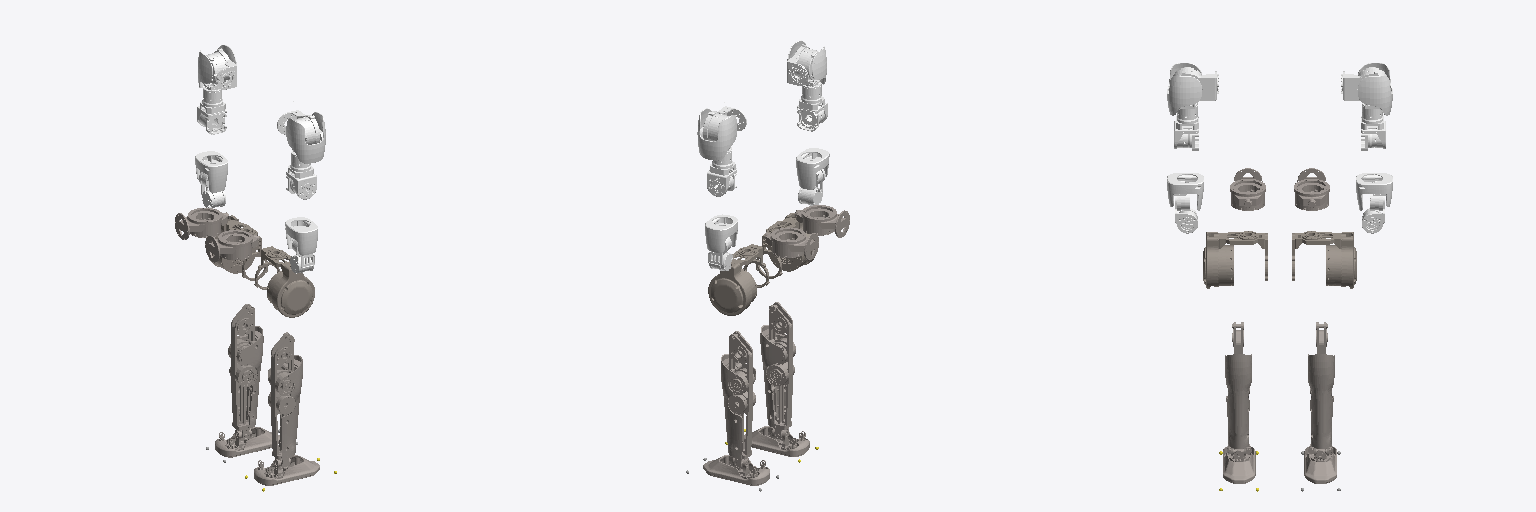
--- Render facts (derived) ---
The picture shows the robot from 3 angles, left to right: view 1: azimuth 30°, elevation 25°; view 2: azimuth 150°, elevation 25°; view 3: azimuth 270°, elevation 25°; orthographic projection.
Robot: biped_s4 — 65 links, 64 joints (26 revolute, 20 continuous, 18 fixed); root link base_link; default pose: all joints at 0.
Links seen in each view (by area): view 1: leg_l4_link, leg_r4_link, leg_r2_link, leg_r1_link, leg_r6_link, leg_l1_link, leg_l6_link, zarm_r2_link, zarm_l5_link, zarm_l3_link, zarm_r5_link, leg_l2_link (+4 smaller); view 2: leg_r4_link, leg_l4_link, leg_l2_link, leg_l1_link, leg_l6_link, leg_r1_link, leg_r6_link, zarm_l2_link, zarm_r5_link, zarm_r3_link, zarm_l5_link, leg_r2_link (+4 smaller); view 3: leg_l4_link, leg_r4_link, leg_l2_link, leg_r2_link, zarm_l2_link, zarm_r2_link, leg_l1_link, leg_r1_link, zarm_l5_link, zarm_r5_link, leg_r6_link, leg_l6_link (+4 smaller).
Boxes of the visible links, box(x1,y1,x2,y2) form: leg_l4_link: box(228, 304, 263, 439); leg_r4_link: box(268, 332, 302, 468); leg_r2_link: box(254, 246, 314, 317); leg_r1_link: box(205, 230, 259, 262); leg_r6_link: box(245, 455, 336, 491); leg_l1_link: box(175, 208, 228, 239); leg_l6_link: box(206, 427, 297, 462); zarm_r2_link: box(286, 112, 325, 163); zarm_l5_link: box(195, 151, 227, 192); zarm_l3_link: box(197, 86, 226, 134); zarm_r5_link: box(285, 217, 317, 256); leg_l2_link: box(209, 215, 267, 280); leg_r4_link: box(760, 302, 795, 438); leg_l4_link: box(721, 331, 755, 468); leg_l2_link: box(708, 244, 769, 315); leg_l1_link: box(764, 227, 818, 260); leg_l6_link: box(686, 455, 778, 491); leg_r1_link: box(795, 205, 849, 237); leg_r6_link: box(725, 426, 818, 462); zarm_l2_link: box(697, 108, 736, 160); zarm_r5_link: box(796, 148, 829, 189); zarm_r3_link: box(797, 82, 827, 131); zarm_l5_link: box(705, 214, 737, 254); leg_r2_link: box(756, 213, 814, 278); leg_l4_link: box(1308, 322, 1334, 455); leg_r4_link: box(1225, 322, 1251, 455); leg_l2_link: box(1292, 231, 1356, 288); leg_r2_link: box(1203, 231, 1267, 288); zarm_l2_link: box(1358, 63, 1392, 115); zarm_r2_link: box(1167, 63, 1201, 115); leg_l1_link: box(1294, 168, 1329, 210); leg_r1_link: box(1230, 168, 1265, 210); zarm_l5_link: box(1356, 173, 1392, 210); zarm_r5_link: box(1167, 173, 1203, 210); leg_r6_link: box(1219, 444, 1258, 491); leg_l6_link: box(1301, 444, 1340, 491).
Bounding box of the posed robot: 0.3744 × 0.6244 × 1.39 m (x, y, z).
20 mesh visuals loaded from 49 distinct referenced files (20 OBJ); not drawn: 29 (reference not matched to a file when rendering).

robot.urdf — biped_s4:
<?xml version="1.0" encoding="utf-8"?>
<!-- This URDF was automatically created by SolidWorks to URDF Exporter! Originally created by
Stephen Brawner ([email redacted]) 
     Commit Version: 1.6.0-4-g7f85cfe  Build Version: 1.6.7995.38578
     For more information, please see http://wiki.ros.org/sw_urdf_exporter -->
<robot name="biped_s4">
  <mujoco>
    <compiler meshdir="../meshes/" balanceinertia="true" discardvisual="false"/>
  </mujoco>
  <!-- <link name="dummy_link">
  </link> -->
  <link name="base_link">
    <inertial>
      <origin 
        xyz="-0.0 0.0 0.12722577"
      	rpy="0 0 0" />
      <mass 
        value="22.46493"  />
      <inertia 
        ixx="0.62588371"
        ixy="-0.00011772"
        ixz="0.01585114"
        iyy="0.56247677"
        iyz="0.00086199"
        izz="0.20014604"  />
    </inertial>
    <visual>
      <origin 
        xyz="0 0 0"
        rpy="0 0 0" />
      <geometry>
        <mesh filename="package://biped_s40_hand/meshes/torso.obj" />
      </geometry>
      <material 
        name="">
        <color 
          rgba="1 1 1 1" />
      </material>
    </visual>
  </link>
  <!-- <joint name="dummy_to_base_link" type="fixed">
    <parent link="dummy_link"/>
    <child link="base_link"/>
    <origin rpy="0 0 0" xyz="0 0 0"/>
  </joint> -->

  <link name="base_camera">
      <visual>
          <origin 
              xyz="0 0 0" 
              rpy="0 0 0" />
          <geometry>
              <sphere radius="0.001"/>
          </geometry>
          <material 
              name="">
              <color 
                  rgba="1 1 1 1" />
          </material>
      </visual>
  </link>
  <joint name="base_camera" type="fixed">
      <origin xyz="0.11416 0.0175 0.28459" rpy="0 0.71522222 0" />
      <parent link="base_link" />
      <child link="base_camera" />
  </joint>

  <!-- ************************************************************ -->
  <!-- *********************** Left leg *************************** -->
  <!-- ************************************************************ -->

  <link name="leg_l1_link">
    <inertial>
      <origin 
        xyz="0.06614234 -0.00000119 -0.00862806"
        rpy="0 0 0" />
      <mass 
        value="1.53800733"
      />
      <inertia 
        ixx="0.00189451"
        ixy="-0.00000100"
        ixz="-0.00010566"
        iyy="0.00282649"
        iyz="-0.00000006"
        izz="0.00366404" />
    </inertial>
    <visual>
      <origin 
        xyz="0 0 0"
        rpy="0 0 0" />
      <geometry>
        <mesh filename="package://biped_s40_hand/meshes/l_leg_roll.obj" />
      </geometry>
      <material 
        name="">
        <color 
          rgba="0.6902 0.65882 0.63922 1" />
      </material>
    </visual>
  </link>
  <joint 
    name="leg_l1_joint"
    type="revolute">
    <origin 
      xyz="-0.139 0.088087 -0.065549"
      rpy="0 0 0" />
    <parent 
      link="base_link" />
    <child 
      link="leg_l1_link" />
    <axis 
      xyz="1 0 0" />
    <limit
      lower="-0.31"
      upper="0.66"
      effort="85"
      velocity="14" />
  </joint>

  <link 
    name="leg_l2_link">
    <inertial>
      <origin 
        xyz="0.00000000 0.04610400 -0.13256100"
        rpy="0 0 0" />
      <mass 
        value="1.60096700"/>
      <inertia 
        ixx="0.00698359"
        ixy="0.00000237"
        ixz="-0.00000315"
        iyy="0.00460736"
        iyz="-0.00105143"
        izz="0.00482586" />
    </inertial>
    <visual>
      <origin 
        xyz="0 0 0"
        rpy="0 0 0" />
      <geometry>
        <mesh filename="package://biped_s40_hand/meshes/l_leg_yaw.obj" />
      </geometry>
      <material 
        name="">
        <color rgba="0.65098 0.61961 0.58824 1" />
      </material>
    </visual>
  </link>
  <joint name="leg_l2_joint"
    type="revolute">
    <origin 
      xyz="0.1365 -0.0010866 -0.033901"
      rpy="0 0 0" />
    <parent 
      link="leg_l1_link" />
    <child 
      link="leg_l2_link" />
    <axis 
      xyz="0 0 1" />
    <limit
      lower="-0.52"
      upper="1.04"
      effort="60"
      velocity="14" />
  </joint>

  <link name="leg_l3_link">
    <inertial>
      <origin 
        xyz="-0.00644903 -0.09813560 -0.05357606"
        rpy="0 0 0" />
      <mass 
        value="2.46657100"/>
      <inertia 
        ixx="0.02261778"
        ixy="-0.00007906"
        ixz="-0.00029350"
        iyy="0.02315672"
        iyz="-0.00182962"
        izz="0.00415881" />
    </inertial>
    <visual>
      <origin 
        xyz="0 0 0"
        rpy="0 0 0" />
      <geometry>
        <mesh 
          filename="package://biped_s40_hand/meshes/l_leg_pitch.obj" />
      </geometry>
      <material 
        name="">
        <color 
          rgba="0.52941 0.54902 0.54902 1" />
      </material>
    </visual>
  </link>
  <joint 
    name="leg_l3_joint"
    type="revolute">
    <origin 
      xyz="0 0.094 -0.09"
      rpy="0 0 0" />
    <parent 
      link="leg_l2_link" />
    <child 
      link="leg_l3_link" />
    <axis 
      xyz="0 1 0" />
    <limit
      lower="-1.83"
      upper="1.04"
      effort="85"
      velocity="14" />
  </joint>

  <link name="leg_l4_link">
    <inertial>
      <origin 
        xyz="0.00080045 -0.00004225 -0.12049699"
        rpy="0 0 0" />
      <mass 
        value="1.62911554" />
      <inertia 
        ixx="0.01343597"
        ixy="-0.00000234"
        ixz="0.00020391"
        iyy="0.01359234"
        iyz="0.00018311"
        izz="0.00092149" />
    </inertial>
    <visual>
      <origin 
        xyz="0 0 0"
        rpy="0 0 0" />
      <geometry>
        <mesh 
          filename="package://biped_s40_hand/meshes/l_knee.obj" />
      </geometry>
      <material 
        name="">
        <color rgba="0.68627 0.65882 0.63922 1" />
      </material>
    </visual>
  </link>
  <joint name="leg_l4_joint"
    type="revolute">
    <origin 
      xyz="0.004136 -0.06635 -0.24997"
      rpy="0 0 0" />
    <parent 
      link="leg_l3_link" />
    <child 
      link="leg_l4_link" />
    <axis 
      xyz="0 1 0" />
    <limit
      lower="-0.0"
      upper="2.18"
      effort="85"
      velocity="14" />
  </joint>

  <link name="leg_l5_link">
    <inertial>
      <origin 
        xyz="0.00000000 -0.02099982 0"
        rpy="0 0 0" />
      <mass 
        value="0.05444454" />
      <inertia 
        ixx="0.00000411"
        ixy="0.00000000"
        ixz="0.00000000"
        iyy="0.00000411"
        iyz="0.00000000"
        izz="0.00000728" />
    </inertial>
    <visual>
      <origin 
        xyz="0 0 0"
        rpy="0 0 0" />
      <geometry>
        <mesh filename="package://biped_s40_hand/meshes/l_foot_pitch.obj" />
      </geometry>
      <material name="">
        <color rgba="0.6902 0.65882 0.63922 1" />
      </material>
    </visual>
  </link>
  <joint 
    name="leg_l5_joint"
    type="revolute">
    <origin 
      xyz="0 -0.0022 -0.346"
      rpy="0 0 0" />
    <parent 
      link="leg_l4_link" />
    <child 
      link="leg_l5_link" />
    <axis 
      xyz="0 1 0" />
    <limit
      lower="-0.61"
      upper="0.52"
      effort="36"
      velocity="14" />
  </joint>

  <link name="leg_l6_link">
    <inertial>
      <origin 
        xyz="-0.03594832 0.00000978 -0.02713029"
        rpy="0 0 0" />
      <mass 
        value="0.46707519" />
      <inertia 
        ixx="0.00040711"
        ixy="0.00000016"
        ixz="-0.00023147"
        iyy="0.00127525"
        iyz="-0.00000006"
        izz="0.00135360" />
    </inertial>
    <visual>
      <origin 
        xyz="0 0 0"
        rpy="0 0 0" />
      <geometry>
        <mesh filename="package://biped_s40_hand/meshes/l_foot_roll.obj" />
      </geometry>
      <material 
        name="">
        <color 
          rgba="0.6902 0.65882 0.63922 1" />
      </material>
    </visual>
    <visual>
      <origin rpy="0 0 0" xyz="-0.09 0.05 -0.0465" />
      <geometry>
        <sphere radius="0.005" />
      </geometry>
    </visual>
    <collision>
      <origin rpy="0 0 0" xyz="-0.09 0.05 -0.0465" />
      <geometry>
        <sphere radius="0.005" />
      </geometry>
    </collision>
    <visual>
      <origin rpy="0 0 0" xyz="-0.09 -0.05 -0.0465" />
      <geometry>
        <sphere radius="0.005" />
      </geometry>
    </visual>
    <collision>
      <origin rpy="0 0 0" xyz="-0.09 -0.05 -0.0465" />
      <geometry>
        <sphere radius="0.005" />
      </geometry>
    </collision>
    <visual>
      <origin rpy="0 0 0" xyz="0.15 0.05 -0.0465" />
      <geometry>
        <sphere radius="0.005" />
      </geometry>
    </visual>
    <collision>
      <origin rpy="0 0 0" xyz="0.15 0.05 -0.0465" />
      <geometry>
        <sphere radius="0.005" />
      </geometry>
    </collision>
    <visual>
      <origin rpy="0 0 0" xyz="0.15 -0.05 -0.0465" />
      <geometry>
        <sphere radius="0.005" />
      </geometry>
    </visual>
    <collision>
      <origin rpy="0 0 0" xyz="0.15 -0.05 -0.0465" />
      <geometry>
        <sphere radius="0.005" />
      </geometry>
    </collision>
  </link>
  <joint 
    name="leg_l6_joint"
    type="revolute">
    <origin 
      xyz="0 0 0"
      rpy="0 0 0" />
    <parent 
      link="leg_l5_link" />
    <child 
      link="leg_l6_link" />
    <axis 
      xyz="1 0 0" />
    <limit
      lower="-0.61"
      upper="0.52"
      effort="36"
      velocity="14" />
  </joint>

  <link 
    name="ll_foot_toe">
    <collision>
      <origin 
        rpy="0 0 0"
        xyz="0 0 0"/>
      <geometry>
        <sphere radius="0.005"/>
      </geometry>
    </collision>
  </link>
  <joint name="ll_foot_toe_joint"
    type="fixed">
    <origin 
      xyz="0.15 0.05 -0.0465"
      rpy="0 0 0" />
    <parent 
      link="leg_l6_link" />
    <child 
      link="ll_foot_toe" />
  </joint>
  <link name="ll_foot_heel">
    <collision>
      <origin 
        rpy="0 0 0"
        xyz="0 0 0"/>
      <geometry>
        <sphere radius="0.005"/>
      </geometry>
    </collision>
  </link>
  <joint 
    name="ll_foot_heel_joint"
    type="fixed">
    <origin 
      xyz="-0.09 0.05 -0.0465"
      rpy="0 0 0" />
    <parent link="leg_l6_link" />
    <child link="ll_foot_heel" />
  </joint>

  <link name="lr_foot_toe">
    <collision>
      <origin 
        rpy="0 0 0"
        xyz="0 0 0"/>
      <geometry>
        <sphere radius="0.005"/>
      </geometry>
    </collision>
  </link>
  <joint 
    name="lr_foot_toe_joint"
    type="fixed">
    <origin 
      xyz="0.15 -0.05 -0.0465"
      rpy="0 0 0" />
    <parent 
      link="leg_l6_link" />
    <child 
      link="lr_foot_toe" />
  </joint>
  <link 
    name="lr_foot_heel">
    <collision>
      <origin 
        rpy="0 0 0"
        xyz="0 0 0"/>
      <geometry>
        <sphere radius="0.005"/>
      </geometry>
    </collision>
  </link>
  <joint 
    name="lr_foot_heel_joint"
    type="fixed">
    <origin 
      xyz="-0.09 -0.05 -0.0465"
      rpy="0 0 0" />
    <parent 
      link="leg_l6_link" />
    <child 
      link="lr_foot_heel" />
  </joint>
  <link name="l_foot_toe">
    <collision>
      <origin 
        rpy="0 0 0"
        xyz="0 0 0"/>
      <geometry>
        <sphere radius="0.005"/>
      </geometry>
    </collision>
  </link>
  <joint 
    name="l_foot_toe_joint"
    type="fixed">
    <origin 
      xyz="0.15 0.0 -0.0465"
      rpy="0 0 0" />
    <parent 
      link="leg_l6_link" />
    <child 
      link="l_foot_toe" />
  </joint>
  <link name="l_foot_heel">
    <collision>
      <origin 
        rpy="0 0 0"
        xyz="0 0 0"/>
      <geometry>
        <sphere radius="0.005"/>
      </geometry>
    </collision>
  </link>
  <joint 
    name="l_foot_heel_joint"
    type="fixed">
    <origin xyz="-0.09 0.0 -0.0465"
      rpy="0 0 0" />
    <parent 
      link="leg_l6_link" />
    <child 
      link="l_foot_heel" />
  </joint>

  <!-- ************************************************************ -->
  <!-- ********************** Right leg *************************** -->
  <!-- ************************************************************ -->
  <link 
    name="leg_r1_link">
    <inertial>
      <origin 
        xyz="0.06614233 0.00000119 -0.00862806"
        rpy="0 0 0" />
      <mass 
        value="1.53800714" />
      <inertia 
        ixx="0.00189451"
        ixy="0.00000100"
        ixz="-0.00010566"
        iyy="0.00282648"
        iyz="0.00000006"
        izz="0.00366404" />
    </inertial>
    <visual>
      <origin 
        xyz="0 0 0"
        rpy="0 0 0" />
      <geometry>
        <mesh filename="package://biped_s40_hand/meshes/r_leg_roll.obj" />
      </geometry>
      <material 
        name="">
        <color rgba="0.6902 0.65882 0.63922 1" />
      </material>
    </visual>
  </link>
  <joint name="leg_r1_joint"
    type="revolute">
    <origin 
      xyz="-0.139 -0.088087 -0.065549"
      rpy="0 0 0" />
    <parent 
      link="base_link" />
    <child 
      link="leg_r1_link" />
    <axis 
      xyz="1 0 0" />
    <limit
      lower="-0.6629"
      upper="0.314"
      effort="85"
      velocity="14" />
  </joint>

  <link name="leg_r2_link">
    <inertial>
      <origin 
        xyz="0.00004661 -0.04610359 -0.13257364"
        rpy="0 0 0" />
      <mass 
        value="1.60096695" />
      <inertia 
        ixx="0.00520439"
        ixy="-0.00000302"
        ixz="-0.00000372"
        iyy="0.00397740"
        iyz="0.00063198"
        izz="0.00391648" />
    </inertial>
    <visual>
      <origin 
        xyz="0 0 0"
        rpy="0 0 0" />
      <geometry>
        <mesh filename="package://biped_s40_hand/meshes/r_leg_yaw.obj" />
      </geometry>
      <material 
        name="">
        <color 
          rgba="0.650980392156863 0.619607843137255 0.588235294117647 1" />
      </material>
    </visual>
  </link>
  <joint 
    name="leg_r2_joint"
    type="revolute">
    <origin 
      xyz="0.1365 0.0010866 -0.033901"
      rpy="0 0 0" />
    <parent 
      link="leg_r1_link" />
    <child 
      link="leg_r2_link" />
    <axis 
      xyz="0 0 1" />
    <limit
      lower="-1.04"
      upper="0.52"
      effort="60"
      velocity="14" />
  </joint>

  <link name="leg_r3_link">
    <inertial>
      <origin 
        xyz="-0.00644903 0.09813560 -0.05357606"
        rpy="0 0 0" />
      <mass 
        value="2.46657141"/>
      <inertia 
        ixx="0.02254838"
        ixy="0.00023457"
        ixz="0.00013808"
        iyy="0.02319666"
        iyz="0.00259984"
        izz="0.00432904" />
    </inertial>
    <visual>
      <origin 
        xyz="0 0 0"
        rpy="0 0 0" />
      <geometry>
        <mesh filename="package://biped_s40_hand/meshes/r_leg_pitch.obj" />
      </geometry>
      <material 
        name="">
        <color 
          rgba="0.529411764705882 0.549019607843137 0.549019607843137 1" />
      </material>
    </visual>
  </link>
  <joint name="leg_r3_joint"
    type="revolute">
    <origin 
      xyz="0 -0.094 -0.09"
      rpy="0 0 0" />
    <parent 
      link="leg_r2_link" />
    <child 
      link="leg_r3_link" />
    <axis xyz="0 1 0" />
    <limit
      lower="-1.83"
      upper="1.04"
      effort="85"
      velocity="14" />
  </joint>

  <link name="leg_r4_link">
    <inertial>
      <origin 
        xyz="0.00080045 0.00004225 -0.12049699"
        rpy="0 0 0" />
      <mass 
        value="1.62911540" />
      <inertia 
        ixx="0.01343597"
        ixy="0.00000234"
        ixz="0.00020391"
        iyy="0.01359234"
        iyz="-0.00018311"
        izz="0.00092149" />
    </inertial>
    <visual>
      <origin 
        xyz="0 0 0"
        rpy="0 0 0" />
      <geometry>
        <mesh 
          filename="package://biped_s40_hand/meshes/r_knee.obj" />
      </geometry>
      <material 
        name="">
        <color 
          rgba="0.686274509803922 0.658823529411765 0.63921568627451 1" />
      </material>
    </visual>
  </link>
  <joint 
    name="leg_r4_joint"
    type="revolute">
    <origin 
      xyz="0.004136 0.06635 -0.24997"
      rpy="0 0 0" />
    <parent 
      link="leg_r3_link" />
    <child 
      link="leg_r4_link" />
    <axis 
      xyz="0 1 0" />
    <limit
      lower="-0.0"
      upper="2.18"
      effort="85"
      velocity="14" />
  </joint>

  <link name="leg_r5_link">
    <inertial>
      <origin 
        xyz="0 0.02100018 0"
        rpy="0 0 0" />
      <mass 
        value="0.05444454"/>
      <inertia 
        ixx="0.00000411"
        ixy="0"
        ixz="0"
        iyy="0.00000411"
        iyz="0"
        izz="0.00000728"/>
    </inertial>
    <visual>
      <origin 
        xyz="0 0 0"
        rpy="0 0 0" />
      <geometry>
        <mesh 
          filename="package://biped_s40_hand/meshes/r_foot_pitch.obj" />
      </geometry>
      <material 
        name="">
        <color rgba="0.690196078431373 0.658823529411765 0.63921568627451 1" />
      </material>
    </visual>
  </link>
  <joint name="leg_r5_joint"
    type="revolute">
    <origin 
      xyz="0 0.0022 -0.346"
      rpy="0 0 0" />
    <parent 
      link="leg_r4_link" />
    <child 
      link="leg_r5_link" />
    <axis 
      xyz="0 1 0" />
    <limit
      lower="-0.61"
      upper="0.52"
      effort="36"
      velocity="14" />
  </joint>

  <link name="leg_r6_link">
    <inertial>
      <origin 
        xyz="-0.03594837 -0.00000972 -0.02713025"
        rpy="0 0 0" />
      <mass 
        value="0.46707428" />
      <inertia 
        ixx="0.00040710"
        ixy="-0.00000016"
        ixz="-0.00023147"
        iyy="0.00127525"
        iyz="0.00000006"
        izz="0.00135359" />
    </inertial>
    <visual>
      <origin 
        xyz="0 0 0"
        rpy="0 0 0" />
      <geometry>
        <mesh 
          filename="package://biped_s40_hand/meshes/r_foot_roll.obj" />
      </geometry>
      <material 
        name="">
        <color 
          rgba="0.690196078431373 0.658823529411765 0.63921568627451 1" />
      </material>
    </visual>
    <visual>
      <origin rpy="0 0 0" xyz="-0.09 0.05 -0.0465" />
      <geometry>
        <sphere radius="0.005" />
      </geometry>
    </visual>
    <collision>
      <origin rpy="0 0 0" xyz="-0.09 0.05 -0.0465" />
      <geometry>
        <sphere radius="0.005" />
      </geometry>
    </collision>
    <visual>
      <origin rpy="0 0 0" xyz="-0.09 -0.05 -0.0465" />
      <geometry>
        <sphere radius="0.005" />
      </geometry>
    </visual>
    <collision>
      <origin rpy="0 0 0" xyz="-0.09 -0.05 -0.0465" />
      <geometry>
        <sphere radius="0.005" />
      </geometry>
    </collision>

    <visual>
      <origin rpy="0 0 0" xyz="0.15 0.05 -0.0465" />
      <geometry>
        <sphere radius="0.005" />
      </geometry>
    </visual>
    <collision>
      <origin rpy="0 0 0" xyz="0.15 0.05 -0.0465" />
      <geometry>
        <sphere radius="0.005" />
      </geometry>
    </collision>
    <visual>
      <origin rpy="0 0 0" xyz="0.15 -0.05 -0.0465" />
      <geometry>
        <sphere radius="0.005" />
      </geometry>
    </visual>
    <collision>
      <origin rpy="0 0 0" xyz="0.15 -0.05 -0.0465" />
      <geometry>
        <sphere radius="0.005" />
      </geometry>
    </collision>
  </link>
  <joint 
    name="leg_r6_joint"
    type="revolute">
    <origin 
      xyz="0 0 0"
      rpy="0 0 0" />
    <parent 
      link="leg_r5_link" />
    <child 
      link="leg_r6_link" />
    <axis 
      xyz="1 0 0" />
    <limit
      lower="-0.52"
      upper="0.61"
      effort="36"
      velocity="14" />
  </joint>

  <link name="rl_foot_toe">
    <collision>
      <origin 
        rpy="0 0 0"
        xyz="0 0 0"/>
      <geometry>
        <sphere radius="0.005"/>
      </geometry>
    </collision>
  </link>
  <joint 
    name="rl_foot_toe_joint"
    type="fixed">
    <origin 
      xyz="0.15 0.05 -0.0465"
      rpy="0 0 0" />
    <parent 
      link="leg_r6_link" />
    <child 
      link="rl_foot_toe" />
  </joint>
  <link 
    name="rl_foot_heel">
    <collision>
      <origin 
        rpy="0 0 0"
        xyz="0 0 0"/>
      <geometry>
        <sphere radius="0.005"/>
      </geometry>
    </collision>
  </link>
  <joint 
    name="rl_foot_heel_joint"
    type="fixed">
    <origin 
      xyz="-0.09 0.05 -0.0465"
      rpy="0 0 0" />
    <parent 
      link="leg_r6_link" />
    <child 
      link="rl_foot_heel" />
  </joint>

  <link 
    name="rr_foot_toe">
    <collision>
      <origin 
        rpy="0 0 0"
        xyz="0 0 0"/>
      <geometry>
        <sphere radius="0.005"/>
      </geometry>
    </collision>
  </link>
  <joint 
    name="rr_foot_toe_joint"
    type="fixed">
    <origin 
      xyz="0.15 -0.05 -0.0465"
      rpy="0 0 0" />
    <parent 
      link="leg_r6_link" />
    <child 
      link="rr_foot_toe" />
  </joint>
  <link 
    name="rr_foot_heel">
    <collision>
      <origin 
        rpy="0 0 0"
        xyz="0 0 0"/>
      <geometry>
        <sphere radius="0.005"/>
      </geometry>
    </collision>
  </link>
  <joint 
    name="rr_foot_heel_joint"
    type="fixed">
    <origin 
      xyz="-0.09 -0.05 -0.0465"
      rpy="0 0 0" />
    <parent 
      link="leg_r6_link" />
    <child 
      link="rr_foot_heel" />
  </joint>
  <link 
    name="r_foot_toe">
    <collision>
      <origin 
        rpy="0 0 0"
        xyz="0 0 0"/>
      <geometry>
        <sphere radius="0.005"/>
      </geometry>
    </collision>
  </link>
  <joint 
    name="r_foot_toe_joint"
    type="fixed">
    <origin 
      xyz="0.15 -0.0 -0.0465"
      rpy="0 0 0" />
    <parent 
      link="leg_r6_link" />
    <child 
      link="r_foot_toe" />
  </joint>
  <link 
    name="r_foot_heel">
    <collision>
      <origin 
        rpy="0 0 0"
        xyz="0 0 0"/>
      <geometry>
        <sphere radius="0.005"/>
      </geometry>
    </collision>
  </link>
  <joint 
    name="r_foot_heel_joint"
    type="fixed">
    <origin 
      xyz="-0.09 -0.0 -0.0465"
      rpy="0 0 0" />
    <parent 
      link="leg_r6_link" />
    <child 
      link="r_foot_heel" />
  </joint>

  <!-- ************************************************************ -->
  <!-- ********************** Left arm* *************************** -->
  <!-- ************************************************************ -->
  <link
    name="zarm_l1_link">
    <inertial>
      <origin
        xyz="0.0146835191418715 -0.0166604103758634 -6.82857133371129E-05"
        rpy="0 0 0" />
      <mass
        value="0.794" />
      <inertia
        ixx="0.0002674432873971"
        ixy="-2.5654089149164E-05"
        ixz="-1.72966133127553E-07"
        iyy="0.000125796784291983"
        iyz="-1.66717296343013E-06"
        izz="0.000196186976742156" />
    </inertial>
    <visual>
      <origin
        xyz="0 0 0"
        rpy="0 0 0" />
      <geometry>
        <mesh
          filename="package://biped_s40_hand/meshes/l_arm_pitch.obj" />
      </geometry>
      <material
        name="">
        <color
          rgba="1 1 1 1" />
      </material>
    </visual>    
  </link>
  <joint
    name="zarm_l1_joint"
    type="revolute">
    <origin
      xyz="-0.0175475823124921 0.254700000000031 0.324500000000024"
      rpy="0 0 0" />
    <parent
      link="base_link" />
    <child
      link="zarm_l1_link" />
    <axis
      xyz="0 1 0" />
    <limit 
      lower="-2.0933" 
      upper="0.5233" 
      effort="60" 
      velocity="14" />
    <dynamic
      damping="0.2" />
  </joint>

  <link
    name="zarm_l2_link">
    <inertial>
      <origin
        xyz="0.0222872651779299 0.0156945544195473 -0.0202262244341484"
        rpy="0 0 0" />
      <mass
        value="0.20735" />
      <inertia
        ixx="0.000160370067223081"
        ixy="6.30811840859269E-06"
        ixz="-1.13259246453495E-05"
        iyy="0.000262365778589962"
        iyz="3.14941259087024E-05"
        izz="0.00023601403628197" />
    </inertial>
    <visual>
      <origin
        xyz="0 0 0"
        rpy="0 0 0" />
      <geometry>
        <mesh
          filename="package://biped_s40_hand/meshes/l_arm_roll.obj" />
      </geometry>
      <material
        name="">
        <color
          rgba="1 1 1 1" />
      </material>
    </visual>   
  </link>
  <joint
    name="zarm_l2_joint"
    type="revolute">
    <origin
      xyz="0 0 0"
      rpy="0 0 0" />
    <parent
      link="zarm_l1_link" />
    <child
      link="zarm_l2_link" />
    <axis
      xyz="1 0 0" />
    <limit 
      lower="-0.3489" 
      upper="2.0933" 
      effort="82.8" 
      velocity="14" />
    <dynamic
      damping="0.2" />
  </joint>

  <link
    name="zarm_l3_link">
    <inertial>
      <origin
        xyz="6.16940440451783E-05 0.00525815062784063 -0.128821944854616"
        rpy="0 0 0" />
      <mass
        value="1.120632" />
      <inertia
        ixx="7.00575957554699E-05"
        ixy="-6.81658291272877E-10"
        ixz="2.69427050743199E-10"
        iyy="8.53612265336777E-05"
        iyz="6.95899873075699E-06"
        izz="8.82223899453285E-05" />
    </inertial>
    <visual>
      <origin
        xyz="0 0 0"
        rpy="0 0 0" />
      <geometry>
        <mesh
          filename="package://biped_s40_hand/meshes/l_arm_yaw.obj" />
      </geometry>
      <material
        name="">
        <color
          rgba="1 1 1 1" />
      </material>
    </visual>    
  </link>
  <joint
    name="zarm_l3_joint"
    type="revolute">
    <origin
      xyz="0 0 0"
      rpy="0 0 0" />
    <parent
      link="zarm_l2_link" />
    <child
      link="zarm_l3_link" />
    <axis
      xyz="0 0 1" />
    <limit 
      lower="-1.57" 
      upper="1.57" 
      effort="60" 
      velocity="14" />
    <dynamic
      damping="0.2" />
  </joint>
  
  <link
    name="zarm_l4_link">
    <inertial>
      <origin
        xyz="-1.4281929799409E-05 0.00938313949959718 -0.0522687552263489"
        rpy="0 0 0" />
      <mass
        value="0.395825" />
      <inertia
        ixx="9.558084476069E-05"
        ixy="-4.53863490387433E-08"
        ixz="5.39342118513253E-08"
        iyy="0.000126326373178391"
        iyz="-9.58160032696958E-06"
        izz="0.000121032474884238" />
    </inertial>
    <visual>
      <origin
        xyz="0 0 0"
        rpy="0 0 0" />
      <geometry>
        <mesh
          filename="package://biped_s40_hand/meshes/l_forearm_pitch.obj" />
      </geometry>
      <material
        name="">
        <color
          rgba="1 1 1 1" />
      </material>
    </visual>    
  </link>
  <joint
    name="zarm_l4_joint"
    type="revolute">
    <origin
      xyz="0 0 -0.163599999999998"
      rpy="0 0 0" />
    <parent
      link="zarm_l3_link" />
    <child
      link="zarm_l4_link" />
    <axis
      xyz="0 1 0" />
    <limit lower="-2.0933" upper="0" effort="60" velocity="14" />
    <dynamic
      damping="0.2" />
  </joint>
  
  <link
    name="zarm_l5_link">
    <inertial>
      <origin
        xyz="0.000113133463122583 0.00969227839919062 0.0817960696431681"
        rpy="0 0 0" />
      <mass
        value="0.380792" />
      <inertia
        ixx="7.64923984145487E-05"
        ixy="8.51098127601464E-09"
        ixz="-1.4070355859132E-08"
        iyy="0.000122231132554914"
        iyz="1.11226968994633E-06"
        izz="8.44935061342021E-05" />
    </inertial>
    <visual>
      <origin
        xyz="0 0 0"
        rpy="0 0 0" />
      <geometry>
        <mesh
          filename="package://biped_s40_hand/meshes/l_hand_yaw.obj" />
      </geometry>
      <material
        name="">
        <color
          rgba="1 1 1 1" />
      </material>
    </visual>   
  </link>
  <joint
    name="zarm_l5_joint"
    type="revolute">
    <origin
      xyz="0 0 -0.191049997298861"
      rpy="0 0 0" />
    <parent
      link="zarm_l4_link" />
    <child
      link="zarm_l5_link" />
    <axis
      xyz="0 0 1" />
    <limit 
      lower="-1.657" 
      upper="1.657" 
      effort="6" 
      velocity="14" />
    <dynamic
      damping="0.2" />
  </joint>
  
  <link
    name="zarm_l6_link">
    <inertial>
      <origin
        xyz="0.00810609786663821 0.00489663150092601 0.00622488608908427"
        rpy="0 0 0" />
      <mass
        value="0.376651" />
      <inertia
        ixx="4.77321490368476E-05"
        ixy="3.05261917457107E-06"
        ixz="4.77827164947654E-06"
        iyy="3.43814769749139E-05"
        iyz="-4.59311499587155E-06"
        izz="2.49955336560135E-05" />
    </inertial>
    <visual>
      <origin
        xyz="0 0 0"
        rpy="0 0 0" />
      <geometry>
        <mesh
          filename="package://biped_s40_hand/meshes/l_hand_pitch.obj" />
      </geometry>
      <material
        name="">
        <color
          rgba="1 1 1 1" />
      </material>
    </visual>    
  </link>
  <joint
    name="zarm_l6_joint"
    type="revolute">
    <origin
      xyz="0 0 0"
      rpy="0 0 0" />
    <parent
      link="zarm_l5_link" />
    <child
      link="zarm_l6_link" />
    <axis
      xyz="0 1 0" />
    <limit 
      lower="-1.657" 
      upper="1.657" 
      effort="6" 
      velocity="14" />
    <dynamic
      damping="0.2" />
  </joint>
  
  <link
    name="zarm_l7_link">
    <inertial>
      <origin
        xyz="0.0055750097939089 0.00647363667890594 -0.0826245715087526"
        rpy="0 0 0" />
      <mass
        value="0.704669" />
      <inertia
        ixx="8.04371746531483E-05"
        ixy="2.770174858381E-07"
        ixz="-4.63354764745673E-06"
        iyy="0.000116536814280971"
        iyz="1.04534418501281E-05"
        izz="0.000111690600253046" />
    </inertial>
    <visual>
      <origin
        xyz="0 0 0"
        rpy="0 0 0" />
      <geometry>
        <mesh
          filename="package://biped_s40_hand/meshes/l_hand_roll.STL" />
      </geometry>
      <material
        name="">
        <color
          rgba="1 1 1 1" />
      </material>
    </visual>   
  </link>
  <joint
    name="zarm_l7_joint"
    type="revolute">
    <origin
      xyz="0 0 0"
      rpy="0 0 0" />
    <parent
      link="zarm_l6_link" />
    <child
      link="zarm_l7_link" />
    <axis
      xyz="1 0 0" />
    <limit 
      lower="-1.57" 
      upper="1.57" 
      effort="6" 
      velocity="14" />
    <dynamic
      damping="0.2" />
  </joint>

  <link
    name="zarm_l7_end_effector">
    <collision>
        <origin rpy="0 0 0" xyz="0 0 0"/>
        <geometry>
            <sphere radius="0.005"/>
        </geometry>
    </collision>
  </link>
  <joint
    name="zarm_l7_joint_end_effector"
    type="fixed">
    <origin
      xyz="0.00 -0.03 -0.17"
      rpy="0 0 0" />
    <parent
      link="zarm_l7_link" />
    <child
      link="zarm_l7_end_effector" />
  </joint>

  <!-- ************************************************************ -->
  <!-- ********************** Right arm *************************** -->
  <!-- ************************************************************ -->
  <link
    name="zarm_r1_link">
    <inertial>
      <origin
        xyz="0.0146743511434554 0.0168298008224051 -8.16711977456031E-05"
        rpy="0 0 0" />
      <mass
        value="0.794" />
      <inertia
        ixx="0.000267364314112701"
        ixy="2.58822573731612E-05"
        ixz="-1.74450019197634E-07"
        iyy="0.000125724274127356"
        iyz="1.71810516637517E-06"
        izz="0.000196179895851995" />
    </inertial>
    <visual>
      <origin
        xyz="0 0 0"
        rpy="0 0 0" />
      <geometry>
        <mesh
          filename="package://biped_s40_hand/meshes/r_arm_pitch.obj" />
      </geometry>
      <material
        name="">
        <color
          rgba="1 1 1 1" />
      </material>
    </visual>   
  </link>
  <joint
    name="zarm_r1_joint"
    type="revolute">
    <origin
      xyz="-0.0175475823119764 -0.254700000000003 0.324500000000024"
      rpy="0 0 0" />
    <parent
      link="base_link" />
    <child
      link="zarm_r1_link" />
    <axis
      xyz="0 1 0" />
    <limit 
      lower="-2.0933" 
      upper="0.5233" 
      effort="60" 
      velocity="14" />
    <dynamic
      damping="0.2" />
  </joint>
  
  <link
    name="zarm_r2_link">
    <inertial>
      <origin
        xyz="0.0223009070030529 -0.0156950170482436 -0.0202307747650334"
        rpy="0 0 0" />
      <mass
        value="0.20735" />
      <inertia
        ixx="0.00016058853411588"
        ixy="-6.25733649402466E-06"
        ixz="-1.13236198708706E-05"
        iyy="0.000262566981542989"
        iyz="-3.14930415013909E-05"
        izz="0.000236151535262186" />
    </inertial>
    <visual>
      <origin
        xyz="0 0 0"
        rpy="0 0 0" />
      <geometry>
        <mesh
          filename="package://biped_s40_hand/meshes/r_arm_roll.obj" />
      </geometry>
      <material
        name="">
        <color
          rgba="1 1 1 1" />
      </material>
    </visual>   
  </link>
  <joint
    name="zarm_r2_joint"
    type="revolute">
    <origin
      xyz="0 0 0"
      rpy="0 0 0" />
    <parent
      link="zarm_r1_link" />
    <child
      link="zarm_r2_link" />
    <axis
      xyz="1 0 0" />
    <limit 
      lower="-2.0933" 
      upper="0.3489" 
      effort="82.8" 
      velocity="14" />
    <dynamic
      damping="0.2" />
  </joint>
  
  <link
    name="zarm_r3_link">
    <inertial>
      <origin
        xyz="-4.82749435400213E-05 -0.0052581506278393 -0.128821944854617"
        rpy="0 0 0" />
      <mass
        value="1.120632" />
      <inertia
        ixx="7.00575957554697E-05"
        ixy="-6.81658260938682E-10"
        ixz="-2.69427064597612E-10"
        iyy="8.53612265336775E-05"
        iyz="-6.95899873075696E-06"
        izz="8.82223899453284E-05" />
    </inertial>
    <visual>
      <origin
        xyz="0 0 0"
        rpy="0 0 0" />
      <geometry>
        <mesh
          filename="package://biped_s40_hand/meshes/r_arm_yaw.obj" />
      </geometry>
      <material
        name="">
        <color
          rgba="1 1 1 1" />
      </material>
    </visual>    
  </link>
  <joint
    name="zarm_r3_joint"
    type="revolute">
    <origin
      xyz="0 0 0"
      rpy="0 0 0" />
    <parent
      link="zarm_r2_link" />
    <child
      link="zarm_r3_link" />
    <axis
      xyz="0 0 1" />
    <limit 
      lower="-1.57" 
      upper="1.57" 
      effort="60" 
      velocity="14" />
    <dynamic
      damping="0.2" />
  </joint>
  
  <link
    name="zarm_r4_link">
    <inertial>
      <origin
        xyz="-0.000127232990745116 -0.00951602649232586 -0.0522687552263488"
        rpy="0 0 0" />
      <mass
        value="0.395825" />
      <inertia
        ixx="9.55808447606916E-05"
        ixy="-4.53863489774233E-08"
        ixz="-5.41060583443891E-08"
        iyy="0.000126326373178394"
        iyz="9.40982665987077E-06"
        izz="0.00012103247488424" />
    </inertial>
    <visual>
      <origin
        xyz="0 0 0"
        rpy="0 0 0" />
      <geometry>
        <mesh
          filename="package://biped_s40_hand/meshes/r_forearm_pitch.obj" />
      </geometry>
      <material
        name="">
        <color
          rgba="1 1 1 1" />
      </material>
    </visual>   
  </link>
  <joint
    name="zarm_r4_joint"
    type="revolute">
    <origin
      xyz="0 0 -0.1636"
      rpy="0 0 0" />
    <parent
      link="zarm_r3_link" />
    <child
      link="zarm_r4_link" />
    <axis
      xyz="0 1 0" />
    <limit 
      lower="-2.0933" 
      upper="0" 
      effort="60" 
      velocity="14" />
    <dynamic
      damping="0.2" />
  </joint>
  
  <link
    name="zarm_r5_link">
    <inertial>
      <origin
        xyz="-0.000113133331993445 -0.0097448351680483 0.0817960724173413"
        rpy="0 0 0" />
      <mass
        value="0.380792" />
      <inertia
        ixx="7.64923982725728E-05"
        ixy="8.51115986496426E-09"
        ixz="1.40703608309957E-08"
        iyy="0.000122231132626729"
        iyz="-1.11226978982942E-06"
        izz="8.44935061081861E-05" />
    </inertial>
    <visual>
      <origin
        xyz="0 0 0"
        rpy="0 0 0" />
      <geometry>
        <mesh
          filename="package://biped_s40_hand/meshes/r_hand_yaw.obj" />
      </geometry>
      <material
        name="">
        <color
          rgba="1 1 1 1" />
      </material>
    </visual>
  </link>
  <joint
    name="zarm_r5_joint"
    type="revolute">
    <origin
      xyz="0 0 -0.191050000125729"
      rpy="0 0 0" />
    <parent
      link="zarm_r4_link" />
    <child
      link="zarm_r5_link" />
    <axis
      xyz="0 0 1" />
    <limit 
      lower="-1.657" 
      upper="1.657" 
      effort="6" 
      velocity="14" />
    <dynamic
      damping="0.2" />
  </joint>
  
  <link
    name="zarm_r6_link">
    <inertial>
      <origin
        xyz="0.00735986990228184 -0.0047523802551166 0.00605888061339196"
        rpy="0 0 0" />
      <mass
        value="0.376651" />
      <inertia
        ixx="4.77321358097824E-05"
        ixy="-2.99709432812988E-06"
        ixz="4.71488437974188E-06"
        iyy="3.42470226388499E-05"
        iyz="4.61094199971347E-06"
        izz="2.51299600072388E-05" />
    </inertial>
    <visual>
      <origin
        xyz="0 0 0"
        rpy="0 0 0" />
      <geometry>
        <mesh
          filename="package://biped_s40_hand/meshes/r_hand_pitch.obj" />
      </geometry>
      <material
        name="">
        <color
          rgba="1 1 1 1" />
      </material>
    </visual>
  </link>
  <joint
    name="zarm_r6_joint"
    type="revolute">
    <origin
      xyz="0 0 0"
      rpy="0 0 0" />
    <parent
      link="zarm_r5_link" />
    <child
      link="zarm_r6_link" />
    <axis
      xyz="0 1 0" />
    <limit 
      lower="-1.657" 
      upper="1.657" 
      effort="6" 
      velocity="14" />
    <dynamic
      damping="0.2" />
  </joint>
  
  <link
    name="zarm_r7_link">
    <inertial>
      <origin
        xyz="0.0045944493552252 -0.00586927010446042 -0.0836324643988434"
        rpy="0 0 0" />
      <mass
        value="0.704669" />
      <inertia
        ixx="0.000160651543151659"
        ixy="-5.37963063503334E-07"
        ixz="-9.47669219939636E-06"
        iyy="0.000229393712149694"
        iyz="-2.08351527945055E-05"
        izz="0.000219277776699058" />
    </inertial>
    <visual>
      <origin
        xyz="0 0 0"
        rpy="0 0 0" />
      <geometry>
        <mesh
          filename="package://biped_s40_hand/meshes/r_hand_roll.STL" />
      </geometry>
      <material
        name="">
        <color
          rgba="1 1 1 1" />
      </material>
    </visual>
  </link>
  <joint
    name="zarm_r7_joint"
    type="revolute">
    <origin
      xyz="0 0 0"
      rpy="0 0 0" />
    <parent
      link="zarm_r6_link" />
    <child
      link="zarm_r7_link" />
    <axis
      xyz="1 0 0" />
    <limit 
      lower="-1.57" 
      upper="1.57" 
      effort="6" 
      velocity="14" />
    <dynamic
      damping="0.2" />
  </joint>

  <link
    name="zarm_r7_end_effector">
    <collision>
        <origin rpy="0 0 0" xyz="0 0 0"/>
        <geometry>
            <sphere radius="0.005"/>
        </geometry>
    </collision>
  </link>
  <joint
    name="zarm_r7_joint_end_effector"
    type="fixed">
    <origin
      xyz="0.00 0.03 -0.17"
      rpy="0 0 0" />
    <parent
      link="zarm_r7_link" />
    <child
      link="zarm_r7_end_effector" />
  </joint>

  <!-- ************************************************************ -->
  <!-- ********************** head joint ************************** -->
  <!-- ************************************************************ -->
  <link name="head_yaw">
        <inertial>
            <origin 
                xyz="-0.000116065796709811 0.00341283230689319 -0.00762227943283844" 
                rpy="0 0 0" />
            <mass 
                value="0.0876587232040551" />
            <inertia 
                ixx="5.29184226374934E-05" 
                ixy="-5.55749298909931E-08" 
                ixz="2.93674313773846E-07" 
                iyy="7.69981959753033E-05" 
                iyz="-9.22993448844536E-06" 
                izz="5.31017800814282E-05" />
        </inertial>
        <visual>
            <origin xyz="0 0 0" rpy="0 0 0" />
            <geometry>
                <mesh filename="package://biped_s40_hand/meshes/head_yaw.STL" />
            </geometry>
            <material name="">
                <color rgba="0.6902 0.65882 0.63922 1" />
            </material>
        </visual>
        <collision>
            <origin xyz="0 0 0" rpy="0 0 0" />
            <geometry>
                <mesh filename="package://biped_s40_hand/meshes/head_yaw.STL" />
            </geometry>
        </collision>
    </link>
    <joint 
        name="head_yaw" 
        type="fixed">
        <origin 
            xyz="-0.0175475823124929 0 0.499400000000373" rpy="0 0 0" />
        <parent 
            link="base_link" />
        <child 
            link="head_yaw" />
        <axis 
            xyz="0 0 1" />
        <limit 
            velocity="1" 
            effort="20" 
            lower="-1.5708" 
            upper="1.5708" />
    </joint>

    <link name="head_pitch">
        <inertial>
            <origin 
                xyz="0.0108076765997382 -0.00100494759438114 0.0523165975702757" 
                rpy="0 0 0" />
            <mass 
                value="0.348142076778321" />
            <inertia 
                ixx="0.000904070873567589" 
                ixy="1.57558780381555E-06" 
                ixz="0.000295083531658369" 
                iyy="0.000957585537827452" 
                iyz="-9.61289176090918E-06" 
                izz="0.00114051835139601" />
        </inertial>
        <visual>
            <origin xyz="0 0 0" rpy="0 0 0" />
            <geometry>
                <mesh filename="package://biped_s40_hand/meshes/head_pitch.STL" />
            </geometry>
            <material name="">
                <color rgba="0.6902 0.65882 0.63922 1" />
            </material>
        </visual>
        <collision>
            <origin xyz="0 0 0" rpy="0 0 0" />
            <geometry>
                <mesh filename="package://biped_s40_hand/meshes/head_pitch.STL" />
            </geometry>
        </collision>
    </link>
    <joint 
        name="head_pitch" 
        type="fixed">
        <origin 
            xyz="0 0 0" 
            rpy="0 0 0" />
        <parent 
            link="head_yaw" />
        <child 
            link="head_pitch" />
        <axis 
            xyz="0 1 0" />
        <limit 
            velocity="1" 
            effort="20" 
            lower="-0.8708" 
            upper="0.5708" />
    </joint>

    <link name="head_camera">
        <visual>
            <origin xyz="0 0 0" rpy="0 0 0" />
            <geometry>
                <sphere radius="0.001"/>
                <!-- <box size="0.1 0.051 0.051"/> -->
            </geometry>
            <material name="">
                <color rgba="0.6902 0.65882 0.63922 1" />
            </material>
        </visual>
    </link>
    <joint name="head_camera" type="fixed">
        <origin xyz="0.082 0.0175 0.05449" rpy="0 0.6105555 0" />
        <parent link="head_pitch" />
        <child link="head_camera" />
    </joint>
  
  <!-- ************************************************************ -->
  <!-- *************** Left qiangnao hand ************************* -->
  <!-- ************************************************************ -->

  <link name="l_thumb_proximal_yaw">
      <inertial>
          <origin xyz="0.00590166593878135 -0.00373751061980748 0.000119122170746666" rpy="0 0 0" />
          <mass value="0.00177457706476174" />
          <inertia ixx="5.5194777085443E-08" ixy="3.05430802968252E-08" ixz="8.99312903596649E-10" iyy="7.93062784538195E-08" iyz="-4.09905263561327E-10" izz="9.86616855273954E-08" />
      </inertial>
      <visual>
          <origin xyz="0 0 0" rpy="0 0 0" />
          <geometry>
              <mesh filename="package://biped_s40_hand/meshes/l_thumb_proximal_yaw.STL" />
          </geometry>
          <material name="">
              <color rgba="1 1 1 0.25" />
          </material>
      </visual>
      <collision>
          <origin xyz="0 0 0" rpy="0 0 0" />
          <geometry>
              <mesh filename="package://biped_s40_hand/meshes/l_thumb_proximal_yaw.STL" />
          </geometry>
      </collision>
  </link>
  <joint name="l_thumb_proximal_yaw_joint" type="continuous">
      <origin xyz="0.0250000027597683 -0.0216278329431251 -0.110700000402975" rpy="0 0 0" />
      <parent link="zarm_l7_link" />
      <child link="l_thumb_proximal_yaw" />
      <axis xyz="0 0 -1" />
  </joint>
  <link name="l_thumb_distal_pitch">
      <inertial>
          <origin xyz="0.00835400575954671 -1.54980826169715E-06 -0.0372051471727699" rpy="0 0 0" />
          <mass value="0.0143594964918226" />
          <inertia ixx="7.15388390483937E-06" ixy="-6.69701976384447E-11" ixz="-2.03395115704228E-07" iyy="6.87910901050402E-06" iyz="5.38324327216661E-12" izz="9.1475596956079E-07" />
      </inertial>
      <visual>
          <origin xyz="0 0 0" rpy="0 0 0" />
          <geometry>
              <mesh filename="package://biped_s40_hand/meshes/l_thumb_distal_pitch.STL" />
          </geometry>
          <material name="">
              <color rgba="1 1 1 1" />
          </material>
      </visual>
      <collision>
          <origin xyz="0 0 0" rpy="0 0 0" />
          <geometry>
              <mesh filename="package://biped_s40_hand/meshes/l_thumb_distal_pitch.STL" />
          </geometry>
      </collision>
  </link>
  <joint name="l_thumb_distal_pitch_joint" type="continuous">
      <origin xyz="0.0120000000000023 -0.00649999999999773 0" rpy="0 0 0" />
      <parent link="l_thumb_proximal_yaw" />
      <child link="l_thumb_distal_pitch" />
      <axis xyz="0 1 0" />
  </joint>
  <link name="l_index_proximal_finger">
      <inertial>
          <origin xyz="0.000112677527646918 0.00210468432487104 -0.0171028451759692" rpy="0 0 0" />
          <mass value="0.00213736998836043" />
          <inertia ixx="3.18607074297438E-07" ixy="1.30056260562274E-09" ixz="2.05323306383889E-09" iyy="3.41865494200988E-07" iyz="3.87251682723715E-08" izz="9.68025640372966E-08" />
      </inertial>
      <visual>
          <origin xyz="0 0 0" rpy="0 0 0" />
          <geometry>
              <mesh filename="package://biped_s40_hand/meshes/l_index_proximal_finger.STL" />
          </geometry>
          <material name="">
              <color rgba="1 1 1 1" />
          </material>
      </visual>
      <collision>
          <origin xyz="0 0 0" rpy="0 0 0" />
          <geometry>
              <mesh filename="package://biped_s40_hand/meshes/l_index_proximal_finger.STL" />
          </geometry>
      </collision>
  </link>
  <joint name="l_index_proximal_finger_joint" type="continuous">
      <origin xyz="0.0295025377507617 0.0039487923396046 -0.174730558860478" rpy="0 -0.0311675978215656 0" />
      <parent link="zarm_l7_link" />
      <child link="l_index_proximal_finger" />
      <axis xyz="-0.998506141360648 0.0546395979585239 0" />
  </joint>
  <link name="l_index_distal_finger">
      <inertial>
          <origin xyz="-8.80400428074002E-05 -0.00161951020344181 -0.0254571889170825" rpy="0 0 0" />
          <mass value="0.0050446595604151" />
          <inertia ixx="7.63510729443016E-07" ixy="9.29795250634311E-10" ixz="-1.77723934932869E-09" iyy="7.80114728886836E-07" iyz="-3.23075401001615E-08" izz="1.15370765338784E-07" />
      </inertial>
      <visual>
          <origin xyz="0 0 0" rpy="0 0 0" />
          <geometry>
              <mesh filename="package://biped_s40_hand/meshes/l_index_distal_finger.STL" />
          </geometry>
          <material name="">
              <color rgba="1 1 1 1" />
          </material>
      </visual>
      <collision>
          <origin xyz="0 0 0" rpy="0 0 0" />
          <geometry>
              <mesh filename="package://biped_s40_hand/meshes/l_index_distal_finger.STL" />
          </geometry>
      </collision>
  </link>
  <joint name="l_index_distal_finger_joint" type="continuous">
      <origin xyz="0.00013351949359549 0.00243998929947531 -0.0349145904281216" rpy="0 0 0" />
      <parent link="l_index_proximal_finger" />
      <child link="l_index_distal_finger" />
      <axis xyz="0.998506141360648 -0.0546395979585221 0" />
  </joint>
  <link name="l_middle_proximal_finger">
      <inertial>
          <origin xyz="-8.42681364791875E-08 0.00270210130078863 -0.0207829689336636" rpy="0 0 0" />
          <mass value="0.00260456391453855" />
          <inertia ixx="5.09608185934252E-07" ixy="-1.75213111801256E-12" ixz="-1.78265353217213E-12" iyy="5.36695797641851E-07" iyz="5.70433108286832E-08" izz="1.25808947550621E-07" />
      </inertial>
      <visual>
          <origin xyz="0 0 0" rpy="0 0 0" />
          <geometry>
              <mesh filename="package://biped_s40_hand/meshes/l_middle_proximal_finger.STL" />
          </geometry>
          <material name="">
              <color rgba="1 1 1 1" />
          </material>
      </visual>
      <collision>
          <origin xyz="0 0 0" rpy="0 0 0" />
          <geometry>
              <mesh filename="package://biped_s40_hand/meshes/l_middle_proximal_finger.STL" />
          </geometry>
      </collision>
  </link>
  <joint name="l_middle_proximal_finger_joint" type="continuous">
      <origin xyz="0.00850000275976636 0.00820381922686209 -0.178435376742696" rpy="0 0 0" />
      <parent link="zarm_l7_link" />
      <child link="l_middle_proximal_finger" />
      <axis xyz="-1 0 0" />
  </joint>
  <link name="l_middle_distal_finger">
      <inertial>
          <origin xyz="6.04648922300846E-07 -0.00162350982455478 -0.0254571915129888" rpy="0 0 0" />
          <mass value="0.00504466861649399" />
          <inertia ixx="7.63455312842206E-07" ixy="1.85533672652204E-11" ixz="-1.04806627113088E-11" iyy="7.80159394341909E-07" iyz="-3.23975147926483E-08" izz="1.15374581207705E-07" />
      </inertial>
      <visual>
          <origin xyz="0 0 0" rpy="0 0 0" />
          <geometry>
              <mesh filename="package://biped_s40_hand/meshes/l_middle_distal_finger.STL" />
          </geometry>
          <material name="">
              <color rgba="1 1 1 1" />
          </material>
      </visual>
      <collision>
          <origin xyz="0 0 0" rpy="0 0 0" />
          <geometry>
              <mesh filename="package://biped_s40_hand/meshes/l_middle_distal_finger.STL" />
          </geometry>
      </collision>
  </link>
  <joint name="l_middle_distal_finger_joint" type="continuous">
      <origin xyz="0 0.00292977189725752 -0.0418976901109154" rpy="0 0 0" />
      <parent link="l_middle_proximal_finger" />
      <child link="l_middle_distal_finger" />
      <axis xyz="1 0 0" />
  </joint>
  <link name="l_ring_proximal_finger">
      <inertial>
          <origin xyz="-0.000147796548979496 0.00269934539278621 -0.0207828033089016" rpy="0 0 0" />
          <mass value="0.00260456483338844" />
          <inertia ixx="5.09689336813819E-07" ixy="-1.47916431111907E-09" ixz="-3.12001764447105E-09" iyy="5.36607842012435E-07" iyz="5.69834083724575E-08" izz="1.25816049307563E-07" />
      </inertial>
      <visual>
          <origin xyz="0 0 0" rpy="0 0 0" />
          <geometry>
              <mesh filename="package://biped_s40_hand/meshes/l_ring_proximal_finger.STL" />
          </geometry>
          <material name="">
              <color rgba="1 1 1 1" />
          </material>
      </visual>
      <collision>
          <origin xyz="0 0 0" rpy="0 0 0" />
          <geometry>
              <mesh filename="package://biped_s40_hand/meshes/l_ring_proximal_finger.STL" />
          </geometry>
      </collision>
  </link>
  <joint name="l_ring_proximal_finger_joint" type="continuous">
      <origin xyz="-0.0126025322312212 0.0080785614881318 -0.176446661066021" rpy="0 0.0311675978215913 0" />
      <parent link="zarm_l7_link" />
      <child link="l_ring_proximal_finger" />
      <axis xyz="-0.998506141360648 -0.0546395979585319 0" />
  </joint>
  <link name="l_ring_distal_finger">
      <inertial>
          <origin xyz="-2.97819768621012E-05 0.000551723183689734 -0.0145820959398313" rpy="0 0 0" />
          <mass value="0.00182871318152307" />
          <inertia ixx="2.63516580484025E-07" ixy="-6.83151710625831E-10" ixz="3.36133845950725E-10" iyy="2.75945893486764E-07" iyz="-6.18248894827772E-09" izz="4.69859277660983E-08" />
      </inertial>
      <visual>
          <origin xyz="0 0 0" rpy="0 0 0" />
          <geometry>
              <mesh filename="package://biped_s40_hand/meshes/l_ring_distal_finger.STL" />
          </geometry>
          <material name="">
              <color rgba="1 1 1 1" />
          </material>
      </visual>
      <collision>
          <origin xyz="0 0 0" rpy="0 0 0" />
          <geometry>
              <mesh filename="package://biped_s40_hand/meshes/l_ring_distal_finger.STL" />
          </geometry>
      </collision>
  </link>
  <joint name="l_ring_distal_finger_joint" type="continuous">
      <origin xyz="-0.000160223392310654 0.0029279871592986 -0.0418975085137674" rpy="0 0 0" />
      <parent link="l_ring_proximal_finger" />
      <child link="l_ring_distal_finger" />
      <axis xyz="0.998506141360637 0.0546395979587272 0" />
  </joint>
  <link name="l_pinky_proximal_finger">
      <inertial>
          <origin xyz="-0.000122637015400211 0.00210212976760699 -0.0171030805340099" rpy="0 0 0" />
          <mass value="0.00213737962233864" />
          <inertia ixx="3.18608415490598E-07" ixy="-1.31059762777735E-09" ixz="-2.27735464077079E-09" iyy="3.41873917256528E-07" iyz="3.868353887277E-08" izz="9.67938996220609E-08" />
      </inertial>
      <visual>
          <origin xyz="0 0 0" rpy="0 0 0" />
          <geometry>
              <mesh filename="package://biped_s40_hand/meshes/l_pinky_proximal_finger.STL" />
          </geometry>
          <material name="">
              <color rgba="1 1 1 1" />
          </material>
      </visual>
      <collision>
          <origin xyz="0 0 0" rpy="0 0 0" />
          <geometry>
              <mesh filename="package://biped_s40_hand/meshes/l_pinky_proximal_finger.STL" />
          </geometry>
      </collision>
  </link>
  <joint name="l_pinky_proximal_finger_joint" type="continuous">
      <origin xyz="-0.0332309186593585 0.00363387338808113 -0.170227008036839" rpy="0 0.0659957839625552 0" />
      <parent link="zarm_l7_link" />
      <child link="l_pinky_proximal_finger" />
      <axis xyz="-0.998370307122329 -0.0570677654763681 0" />
  </joint>
  <link name="l_pinky_distal_finger">
      <inertial>
          <origin xyz="-2.37672426811816E-05 0.000794235285774603 -0.012715032786375" rpy="0 0 0" />
          <mass value="0.00162997770027121" />
          <inertia ixx="1.83851165948758E-07" ixy="-6.07372921831439E-10" ixz="5.80097687729223E-10" iyy="1.94700358156753E-07" iyz="-1.32219889788332E-09" izz="3.94697814103924E-08" />
      </inertial>
      <visual>
          <origin xyz="0 0 0" rpy="0 0 0" />
          <geometry>
              <mesh filename="package://biped_s40_hand/meshes/l_pinky_distal_finger.STL" />
          </geometry>
          <material name="">
              <color rgba="1 1 1 1" />
          </material>
      </visual>
      <collision>
          <origin xyz="0 0 0" rpy="0 0 0" />
          <geometry>
              <mesh filename="package://biped_s40_hand/meshes/l_pinky_distal_finger.STL" />
          </geometry>
      </collision>
  </link>
  <joint name="l_pinky_distal_finger_joint" type="continuous">
      <origin xyz="-0.000139217094110203 0.00243552926671115 -0.0349148795758059" rpy="0 0 0" />
      <parent link="l_pinky_proximal_finger" />
      <child link="l_pinky_distal_finger" />
      <axis xyz="0.998370307122341 0.0570677654761637 0" />
  </joint>

  <!-- ************************************************************ -->
  <!-- *************** Right qiangnao hand ************************ -->
  <!-- ************************************************************ -->
  <link name="r_thumb_proximal_yaw">
      <inertial>
          <origin xyz="0.0059016659387813 0.00373751061983887 0.00028087782921854" rpy="0 0 0" />
          <mass value="0.00177457706476174" />
          <inertia ixx="5.51947770854431E-08" ixy="-3.05430802968252E-08" ixz="-8.9931290359755E-10" iyy="7.93062784538199E-08" iyz="-4.09905263561892E-10" izz="9.86616855273956E-08" />
      </inertial>
      <visual>
          <origin xyz="0 0 0" rpy="0 0 0" />
          <geometry>
              <mesh filename="package://biped_s40_hand/meshes/r_thumb_proximal_yaw.STL" />
          </geometry>
          <material name="">
              <color rgba="1 1 1 0.25" />
          </material>
      </visual>
      <collision>
          <origin xyz="0 0 0" rpy="0 0 0" />
          <geometry>
              <mesh filename="package://biped_s40_hand/meshes/r_thumb_proximal_yaw.STL" />
          </geometry>
      </collision>
  </link>
  <joint name="r_thumb_proximal_yaw_joint" type="continuous">
      <origin xyz="0.0240162583145044 0.0216278329431261 -0.110700000402968" rpy="0 0 0" />
      <parent link="zarm_r7_link" />
      <child link="r_thumb_proximal_yaw" />
      <axis xyz="0 0 1" />
  </joint>
  <link name="r_thumb_distal_pitch">
      <inertial>
          <origin xyz="0.00835400525904937 -1.55022040249087E-06 -0.037205152988654" rpy="0 0 0" />
          <mass value="0.0143594976127551" />
          <inertia ixx="7.15388296788212E-06" ixy="-6.69727355587774E-11" ixz="-2.03395160081791E-07" iyy="6.87910807838939E-06" iyz="5.44431164399722E-12" izz="9.14755969331916E-07" />
      </inertial>
      <visual>
          <origin xyz="0 0 0" rpy="0 0 0" />
          <geometry>
              <mesh filename="package://biped_s40_hand/meshes/r_thumb_distal_pitch.STL" />
          </geometry>
          <material name="">
              <color rgba="1 1 1 1" />
          </material>
      </visual>
      <collision>
          <origin xyz="0 0 0" rpy="0 0 0" />
          <geometry>
              <mesh filename="package://biped_s40_hand/meshes/r_thumb_distal_pitch.STL" />
          </geometry>
      </collision>
  </link>
  <joint name="r_thumb_distal_pitch_joint" type="continuous">
      <origin xyz="0.0120000000000024 0.00650000000000001 0.00039999999999929" rpy="0 0 0" />
      <parent link="r_thumb_proximal_yaw" />
      <child link="r_thumb_distal_pitch" />
      <axis xyz="0 -1 0" />
  </joint>
  <link name="r_index_proximal_finger">
      <inertial>
          <origin xyz="0.000117630091740083 -0.00210444255674574 -0.0171028308310166" rpy="0 0 0" />
          <mass value="0.00213737899371432" />
          <inertia ixx="3.18602101869156E-07" ixy="-1.25362698289955E-09" ixz="2.18478331808027E-09" iyy="3.41870944894183E-07" iyz="-3.87179337852981E-08" izz="9.68030538354866E-08" />
      </inertial>
      <visual>
          <origin xyz="0 0 0" rpy="0 0 0" />
          <geometry>
              <mesh filename="package://biped_s40_hand/meshes/r_index_proximal_finger.STL" />
          </geometry>
          <material name="">
              <color rgba="1 1 1 1" />
          </material>
      </visual>
      <collision>
          <origin xyz="0 0 0" rpy="0 0 0" />
          <geometry>
              <mesh filename="package://biped_s40_hand/meshes/r_index_proximal_finger.STL" />
          </geometry>
      </collision>
  </link>
  <joint name="r_index_proximal_finger_joint" type="continuous">
      <origin xyz="0.0285187933054979 -0.0039487923396026 -0.174730558860479" rpy="0 -0.0311675978215671 0" />
      <parent link="zarm_r7_link" />
      <child link="r_index_proximal_finger" />
      <axis xyz="0.998506141360647 0.0546395979585406 0" />
  </joint>
  <link name="r_index_distal_finger">
      <inertial>
          <origin xyz="-8.9232232394443E-05 0.00161946515080247 -0.0254573000709627" rpy="0 0 0" />
          <mass value="0.00504466012184763" />
          <inertia ixx="7.63500198005666E-07" ixy="-8.93025400014092E-10" ixz="-1.75721366263703E-09" iyy="7.80112979178675E-07" iyz="3.23088054385963E-08" izz="1.15370268537332E-07" />
      </inertial>
      <visual>
          <origin xyz="0 0 0" rpy="0 0 0" />
          <geometry>
              <mesh filename="package://biped_s40_hand/meshes/r_index_distal_finger.STL" />
          </geometry>
          <material name="">
              <color rgba="1 1 1 1" />
          </material>
      </visual>
      <collision>
          <origin xyz="0 0 0" rpy="0 0 0" />
          <geometry>
              <mesh filename="package://biped_s40_hand/meshes/r_index_distal_finger.STL" />
          </geometry>
      </collision>
  </link>
  <joint name="r_index_distal_finger_joint" type="continuous">
      <origin xyz="0.000133519493595612 -0.00243998929947775 -0.0349145904281185" rpy="0 0 0" />
      <parent link="r_index_proximal_finger" />
      <child link="r_index_distal_finger" />
      <axis xyz="-0.998506141360649 -0.0546395979585212 0" />
  </joint>
  <link name="r_middle_proximal_finger">
      <inertial>
          <origin xyz="8.44813785091242E-08 -0.00270210141804927 -0.0207829698234612" rpy="0 0 0" />
          <mass value="0.00260456401479316" />
          <inertia ixx="5.09608239447983E-07" ixy="-1.75029152849441E-12" ixz="1.79637389141395E-12" iyy="5.36695856290199E-07" iyz="-5.70433154945367E-08" izz="1.25808948975584E-07" />
      </inertial>
      <visual>
          <origin xyz="0 0 0" rpy="0 0 0" />
          <geometry>
              <mesh filename="package://biped_s40_hand/meshes/r_middle_proximal_finger.STL" />
          </geometry>
          <material name="">
              <color rgba="1 1 1 1" />
          </material>
      </visual>
      <collision>
          <origin xyz="0 0 0" rpy="0 0 0" />
          <geometry>
              <mesh filename="package://biped_s40_hand/meshes/r_middle_proximal_finger.STL" />
          </geometry>
      </collision>
  </link>
  <joint name="r_middle_proximal_finger_joint" type="continuous">
      <origin xyz="0.00751625831450465 -0.00820381922686125 -0.178435376742697" rpy="0 0 0" />
      <parent link="zarm_r7_link" />
      <child link="r_middle_proximal_finger" />
      <axis xyz="1 0 0" />
  </joint>
  <link name="r_middle_distal_finger">
      <inertial>
          <origin xyz="-6.04521225378366E-07 0.00162350982710252 -0.025457191512641" rpy="0 0 0" />
          <mass value="0.00504466863846282" />
          <inertia ixx="7.6345530976374E-07" ixy="1.85475490772791E-11" ixz="1.04892536633895E-11" iyy="7.80159403477418E-07" iyz="3.23975164550656E-08" izz="1.15374581204344E-07" />
      </inertial>
      <visual>
          <origin xyz="0 0 0" rpy="0 0 0" />
          <geometry>
              <mesh filename="package://biped_s40_hand/meshes/r_middle_distal_finger.STL" />
          </geometry>
          <material name="">
              <color rgba="1 1 1 1" />
          </material>
      </visual>
      <collision>
          <origin xyz="0 0 0" rpy="0 0 0" />
          <geometry>
              <mesh filename="package://biped_s40_hand/meshes/r_middle_distal_finger.STL" />
          </geometry>
      </collision>
  </link>
  <joint name="r_middle_distal_finger_joint" type="continuous">
      <origin xyz="0 -0.00292977189725413 -0.0418976901109125" rpy="0 0 0" />
      <parent link="r_middle_proximal_finger" />
      <child link="r_middle_distal_finger" />
      <axis xyz="-1 0 0" />
  </joint>
  <link name="r_ring_proximal_finger">
      <inertial>
          <origin xyz="-0.000147627677307374 -0.00269935568307084 -0.0207828027334272" rpy="0 0 0" />
          <mass value="0.00260456442916689" />
          <inertia ixx="5.09688869653555E-07" ixy="1.47567826577373E-09" ixz="-3.11642075126123E-09" iyy="5.36608130664138E-07" iyz="-5.69836124932145E-08" izz="1.25816010690367E-07" />
      </inertial>
      <visual>
          <origin xyz="0 0 0" rpy="0 0 0" />
          <geometry>
              <mesh filename="package://biped_s40_hand/meshes/r_ring_proximal_finger.STL" />
          </geometry>
          <material name="">
              <color rgba="1 1 1 1" />
          </material>
      </visual>
      <collision>
          <origin xyz="0 0 0" rpy="0 0 0" />
          <geometry>
              <mesh filename="package://biped_s40_hand/meshes/r_ring_proximal_finger.STL" />
          </geometry>
      </collision>
  </link>
  <joint name="r_ring_proximal_finger_joint" type="continuous">
      <origin xyz="-0.0135862766764854 -0.00807856148813096 -0.176446661066022" rpy="0 0.0311675978215922 0" />
      <parent link="zarm_r7_link" />
      <child link="r_ring_proximal_finger" />
      <axis xyz="0.998506141360648 -0.0546395979585354 0" />
  </joint>
  <link name="r_ring_distal_finger">
      <inertial>
          <origin xyz="-3.05447320099322E-05 -0.00055182982921842 -0.014581933967133" rpy="0 0 0" />
          <mass value="0.00182869050551967" />
          <inertia ixx="2.6351019026747E-07" ixy="6.80589443443767E-10" ixz="3.40598850881854E-10" iyy="2.75942607379873E-07" iyz="6.18066814960194E-09" izz="4.69846444924734E-08" />
      </inertial>
      <visual>
          <origin xyz="0 0 0" rpy="0 0 0" />
          <geometry>
              <mesh filename="package://biped_s40_hand/meshes/r_ring_distal_finger.STL" />
          </geometry>
          <material name="">
              <color rgba="1 1 1 1" />
          </material>
      </visual>
      <collision>
          <origin xyz="0 0 0" rpy="0 0 0" />
          <geometry>
              <mesh filename="package://biped_s40_hand/meshes/r_ring_distal_finger.STL" />
          </geometry>
      </collision>
  </link>
  <joint name="r_ring_distal_finger_joint" type="continuous">
      <origin xyz="-0.000160223392313565 -0.00292798715935183 -0.0418975085136676" rpy="0 0 0" />
      <parent link="r_ring_proximal_finger" />
      <child link="r_ring_distal_finger" />
      <axis xyz="-0.996566833460806 -0.0546395979585212 -0.0622017747402293" />
  </joint>
  <link name="r_pinky_proximal_finger">
      <inertial>
          <origin xyz="-0.000117692942698921 -0.00210238254136691 -0.0171031038120715" rpy="0 0 0" />
          <mass value="0.00213737106866596" />
          <inertia ixx="3.18613658418781E-07" ixy="1.35743663351377E-09" ixz="-2.14595314636863E-09" iyy="3.4186844347216E-07" iyz="-3.86910999425676E-08" izz="9.67934520226222E-08" />
      </inertial>
      <visual>
          <origin xyz="0 0 0" rpy="0 0 0" />
          <geometry>
              <mesh filename="package://biped_s40_hand/meshes/r_pinky_proximal_finger.STL" />
          </geometry>
          <material name="">
              <color rgba="1 1 1 1" />
          </material>
      </visual>
      <collision>
          <origin xyz="0 0 0" rpy="0 0 0" />
          <geometry>
              <mesh filename="package://biped_s40_hand/meshes/r_pinky_proximal_finger.STL" />
          </geometry>
      </collision>
  </link>
  <joint name="r_pinky_proximal_finger_joint" type="continuous">
      <origin xyz="-0.0342146631046227 -0.0036338733880803 -0.17022700803684" rpy="0 0.0659957839625563 0" />
      <parent link="zarm_r7_link" />
      <child link="r_pinky_proximal_finger" />
      <axis xyz="0.998370307122331 -0.0570677654763477 0" />
  </joint>
  <link name="r_pinky_distal_finger">
      <inertial>
          <origin xyz="-6.68864174628164E-05 -0.00079192546781276 -0.0127151268014948" rpy="0 0 0" />
          <mass value="0.00162993727561191" />
          <inertia ixx="1.83853268460625E-07" ixy="6.36687597538947E-10" ixz="-4.24280859276174E-10" iyy="1.94697260253276E-07" iyz="1.38051635062388E-09" izz="3.94676279750627E-08" />
      </inertial>
      <visual>
          <origin xyz="0 0 0" rpy="0 0 0" />
          <geometry>
              <mesh filename="package://biped_s40_hand/meshes/r_pinky_distal_finger.STL" />
          </geometry>
          <material name="">
              <color rgba="1 1 1 1" />
          </material>
      </visual>
      <collision>
          <origin xyz="0 0 0" rpy="0 0 0" />
          <geometry>
              <mesh filename="package://biped_s40_hand/meshes/r_pinky_distal_finger.STL" />
          </geometry>
      </collision>
  </link>
  <joint name="r_pinky_distal_finger_joint" type="continuous">
      <origin xyz="-0.00013921709411558 -0.0024355292668054 -0.0349148795757724" rpy="0 0 0" />
      <parent link="r_pinky_proximal_finger" />
      <child link="r_pinky_distal_finger" />
      <axis xyz="-0.99837030712233 0.0570677654763578 0" />
  </joint>
</robot>
